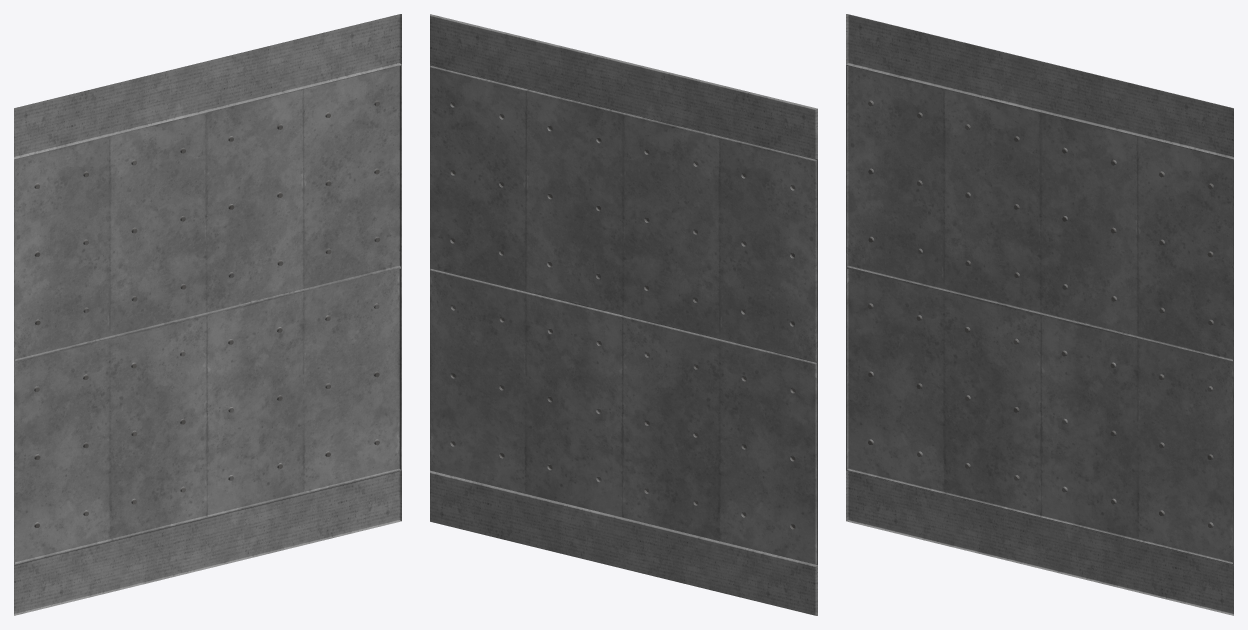
File: SM_Wall_10.fbx
3 views of the same model, side by side, from view 1: azimuth 30°, elevation 25°; view 2: azimuth 150°, elevation 25°; view 3: azimuth 330°, elevation 25° (orthographic).
Parts seen in each view (by area): view 1: SM_Wall_10; view 2: SM_Wall_10; view 3: SM_Wall_10.
Part boxes in pixels (x1,y1,x2,y2): SM_Wall_10: (14,14,401,615); SM_Wall_10: (430,14,817,615); SM_Wall_10: (846,14,1233,615).
Size of the model in its own units: 400 by 500 by 2.
